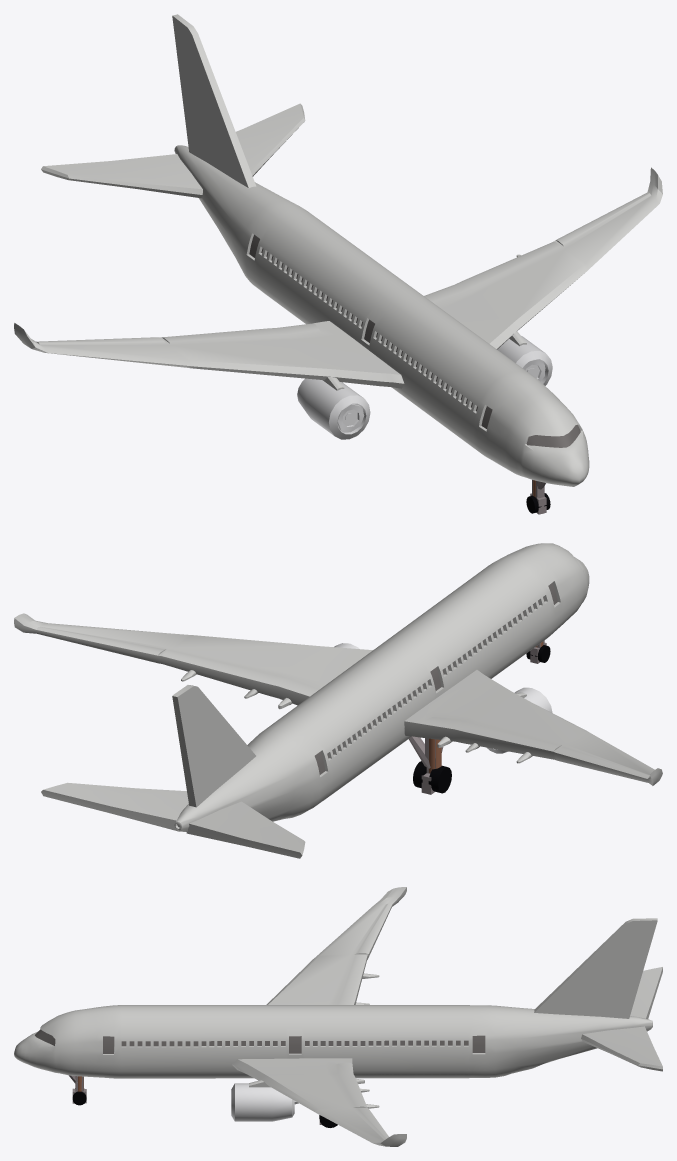
3 renders of one model, top to bottom at view 1: azimuth 30°, elevation 25°; view 2: azimuth 150°, elevation 25°; view 3: azimuth 270°, elevation 25°, orthographic. The views are drawn at different scales.
Visible parts, largest first — view 1: A_AirPlane1; view 2: A_AirPlane1; view 3: A_AirPlane1.
Part boxes in pixels (x1,y1,x2,y2): A_AirPlane1: [14, 14, 662, 514]; A_AirPlane1: [14, 543, 662, 858]; A_AirPlane1: [14, 887, 662, 1146].
Size of the model in its own units: 35.86 by 12.43 by 39.74.
Materials: 2 (2 with a texture image).
